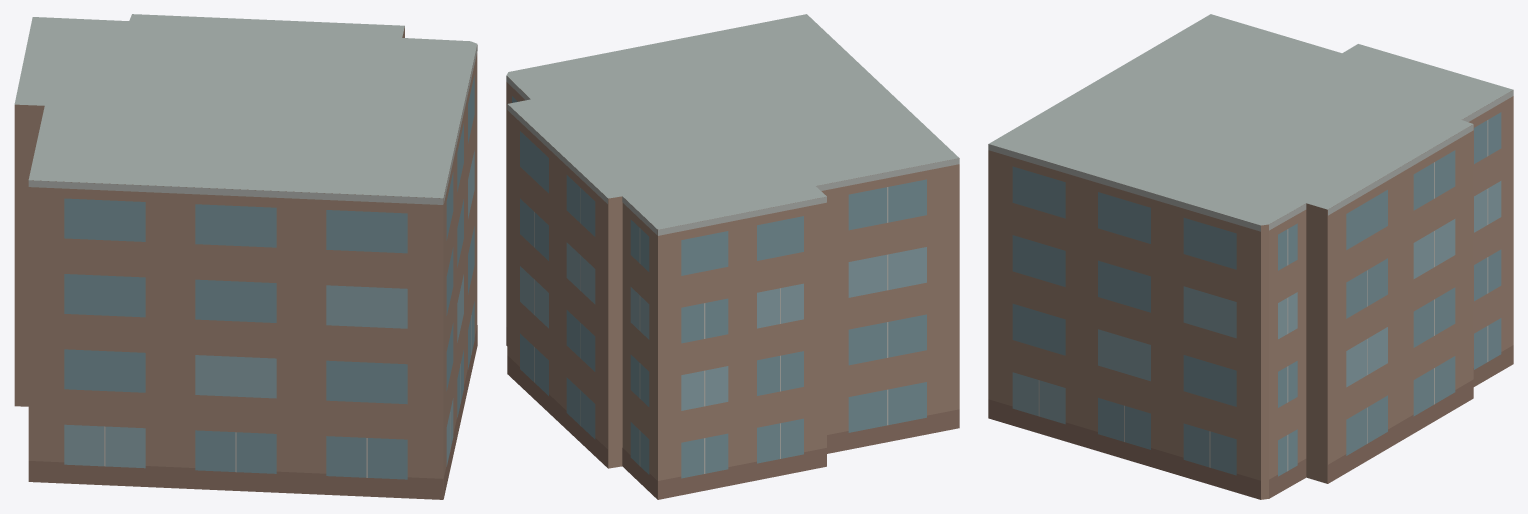
The model's file is survey-upis-32865980.glb.
3 views of the same model, side by side, from view 1: azimuth 30°, elevation 25°; view 2: azimuth 150°, elevation 25°; view 3: azimuth 270°, elevation 25° (orthographic). The views are drawn at different scales.
Parts seen in each view (by area): view 1: survey-upis-32865980.tmp; view 2: survey-upis-32865980.tmp; view 3: survey-upis-32865980.tmp.
Part boxes in pixels (x1,y1,x2,y2): survey-upis-32865980.tmp: (14,14,477,499); survey-upis-32865980.tmp: (506,14,959,499); survey-upis-32865980.tmp: (988,14,1513,499).
Size of the model in its own units: 17.86 by 10.8 by 18.74.
